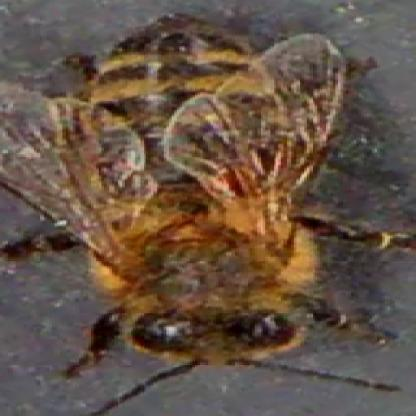bee: (61, 28, 358, 387)
